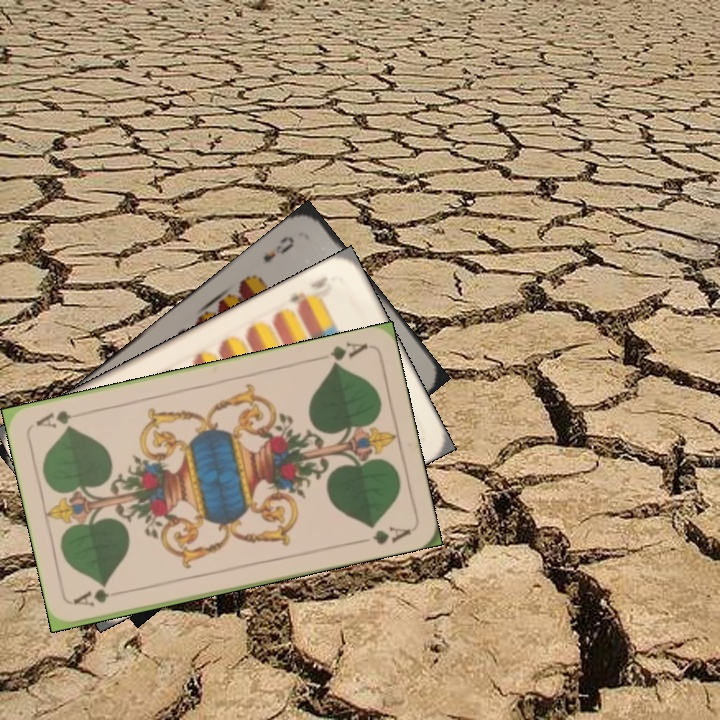E10: (285, 272, 331, 312)
E9: (259, 232, 297, 266)
GA: (70, 584, 129, 609), (326, 338, 371, 370)
